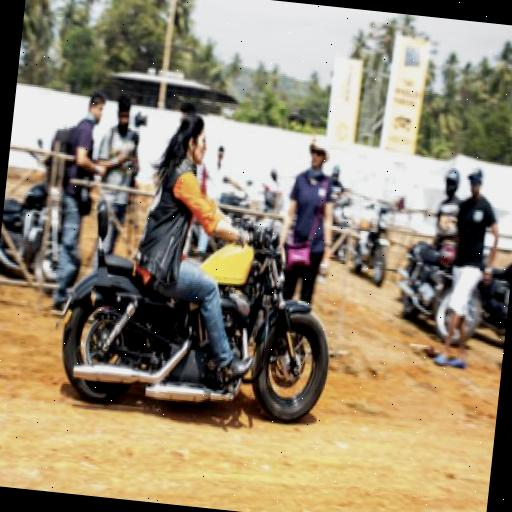no helmet: (111, 94, 360, 430)
